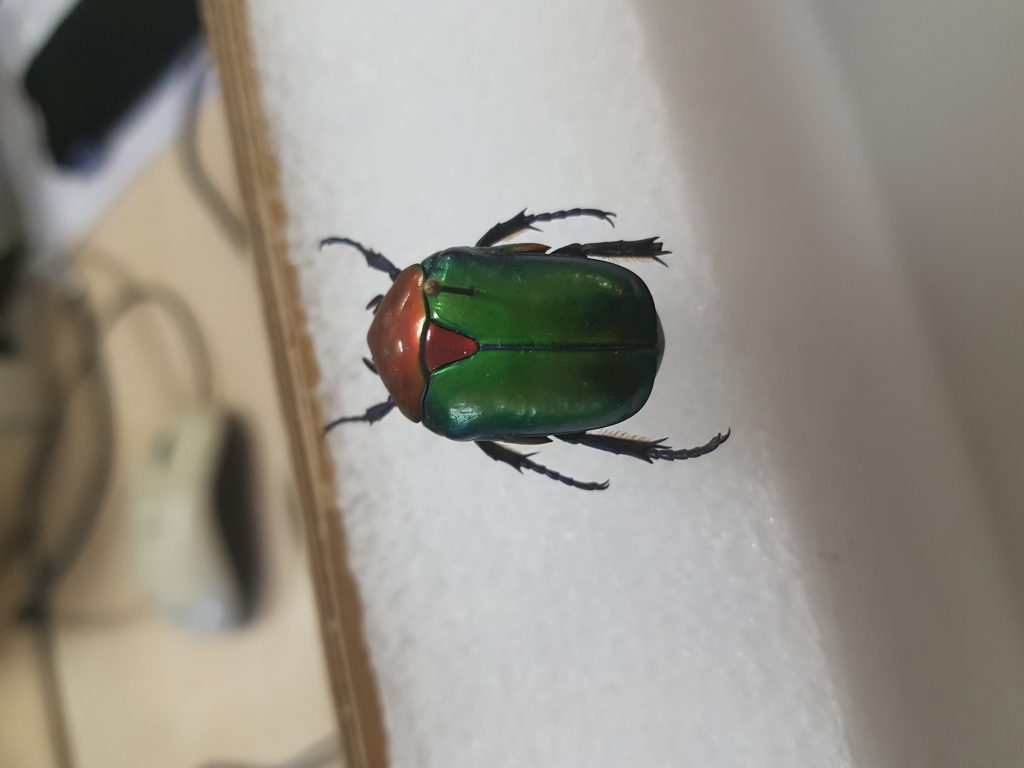Protaetia_speciosa_jousseliniw: (282, 185, 739, 501)
